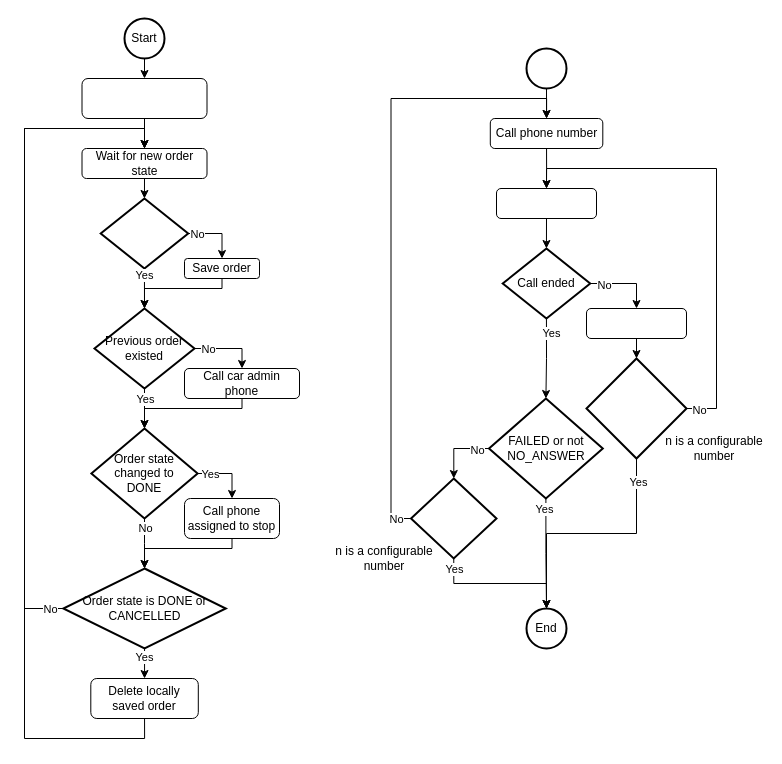
The diagram is 782 pixels wide and 764 high, and some of its shapes have lost their labels. The box of each missing label's shape, as (x1, y1, x2, y2) in pixels:
Attempted n calls: (410, 477, 497, 559)
Call: (525, 47, 567, 89)
Call not ended for 2*n seconds: (585, 357, 687, 459)
Check call status: (496, 188, 596, 218)
Load unfinished orders from database: (81, 78, 207, 118)
Order saved locally: (99, 197, 189, 269)
Wait 2 seconds: (586, 308, 686, 338)
